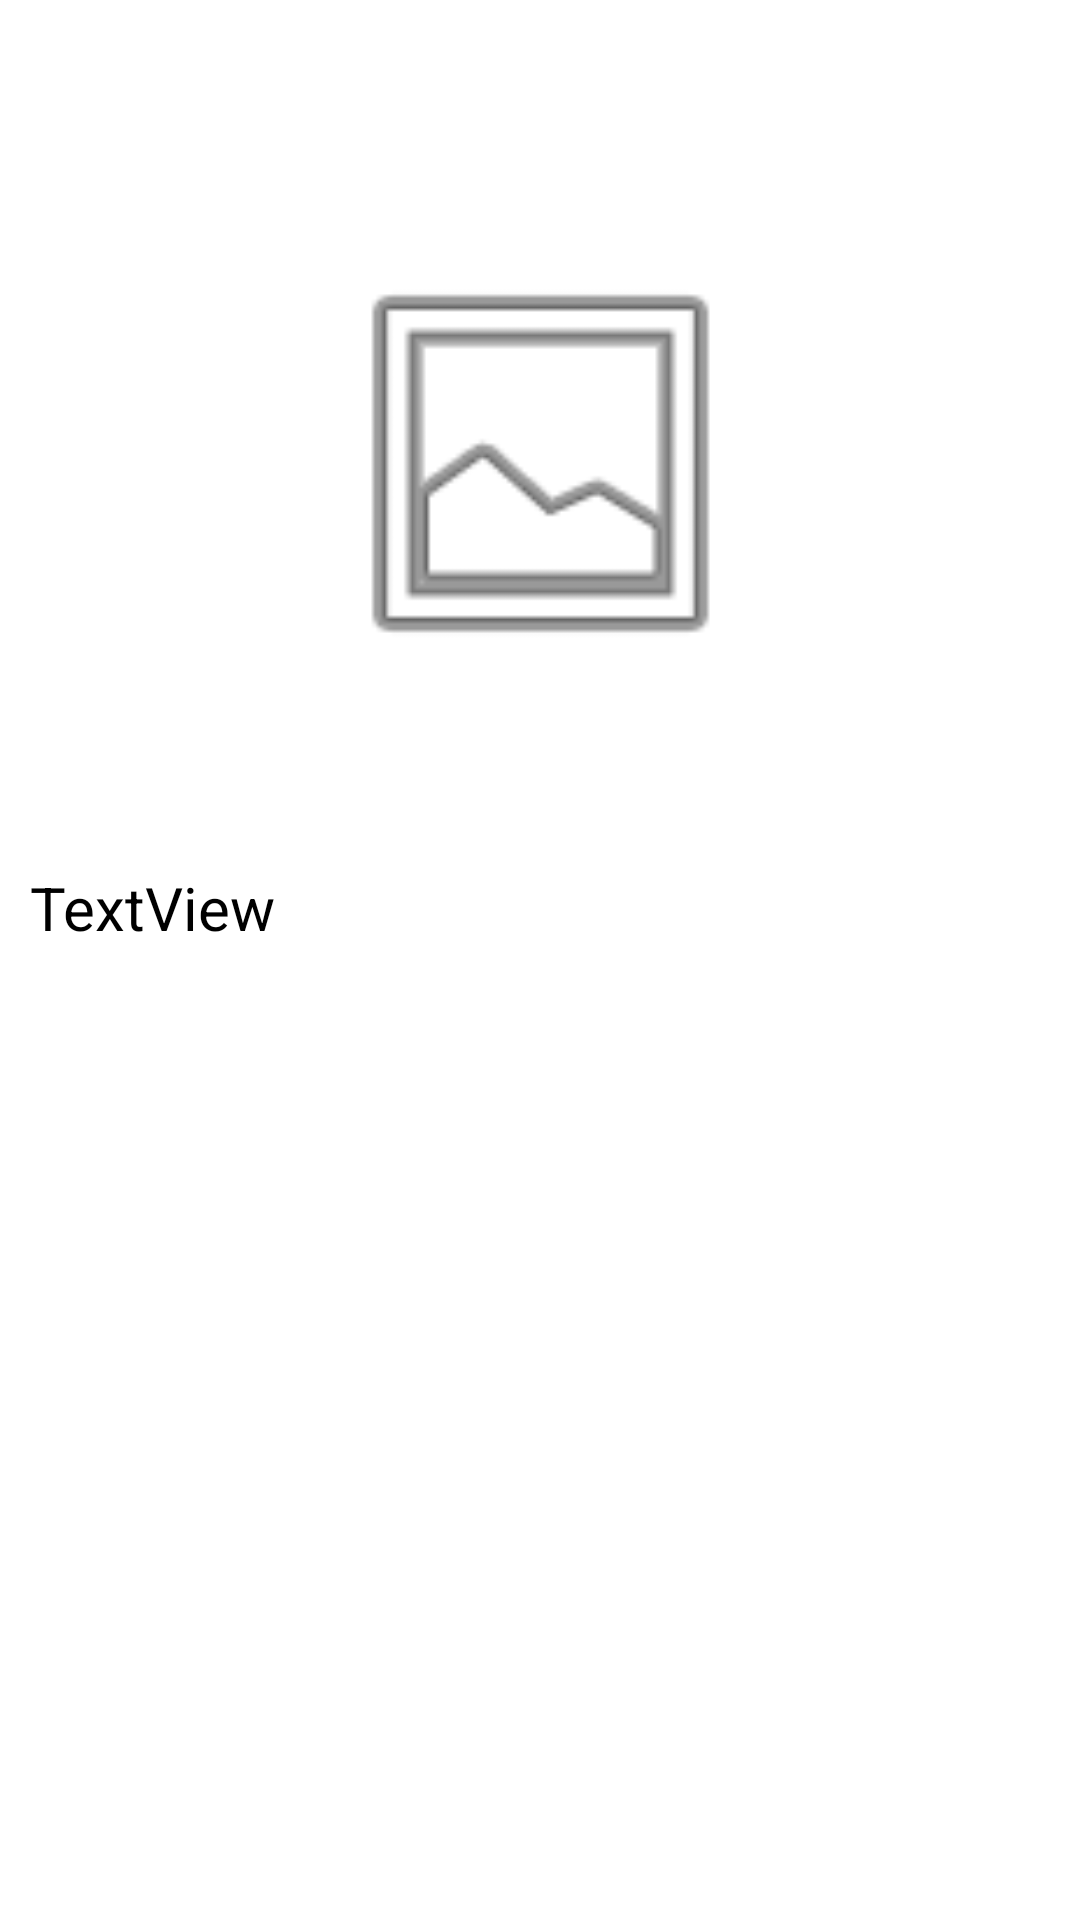

Where to tap for icons on this 1080 x 1920 app screen, as (x,y):
gallery: (540,463)
